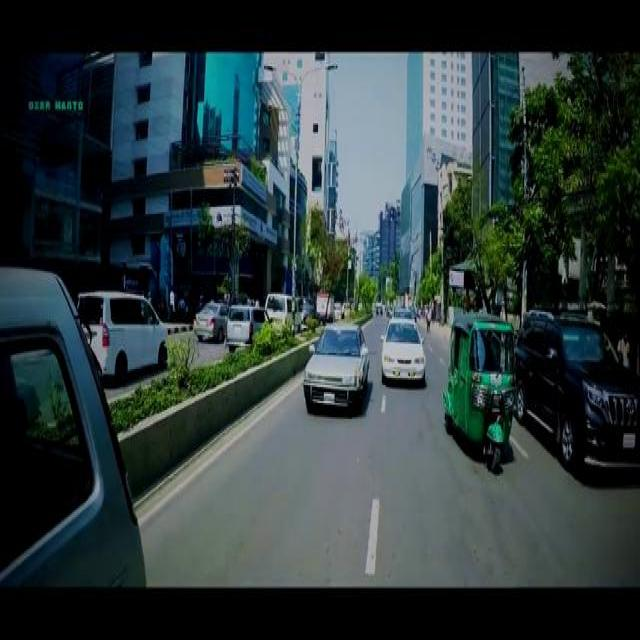vehicle: (514, 313, 638, 479), (441, 309, 515, 468), (76, 287, 169, 376), (301, 322, 369, 409), (381, 318, 425, 385), (226, 301, 272, 348), (265, 292, 302, 329), (193, 300, 228, 339)
